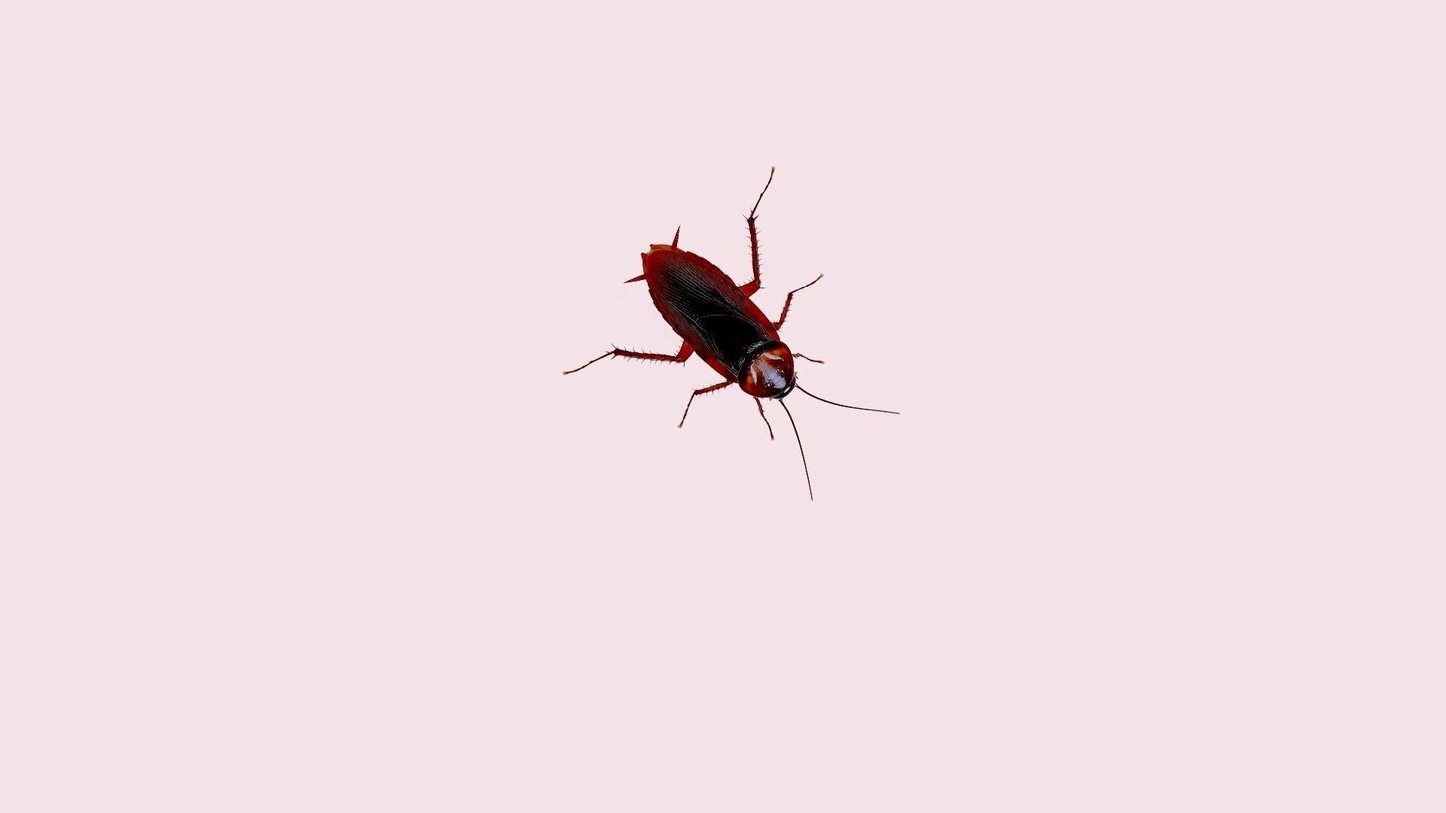cockroach: (592, 202, 847, 467)
